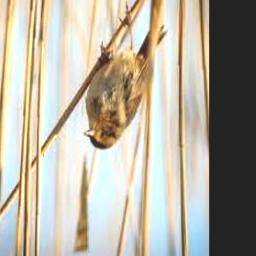Sparrow: (83, 5, 167, 151)
